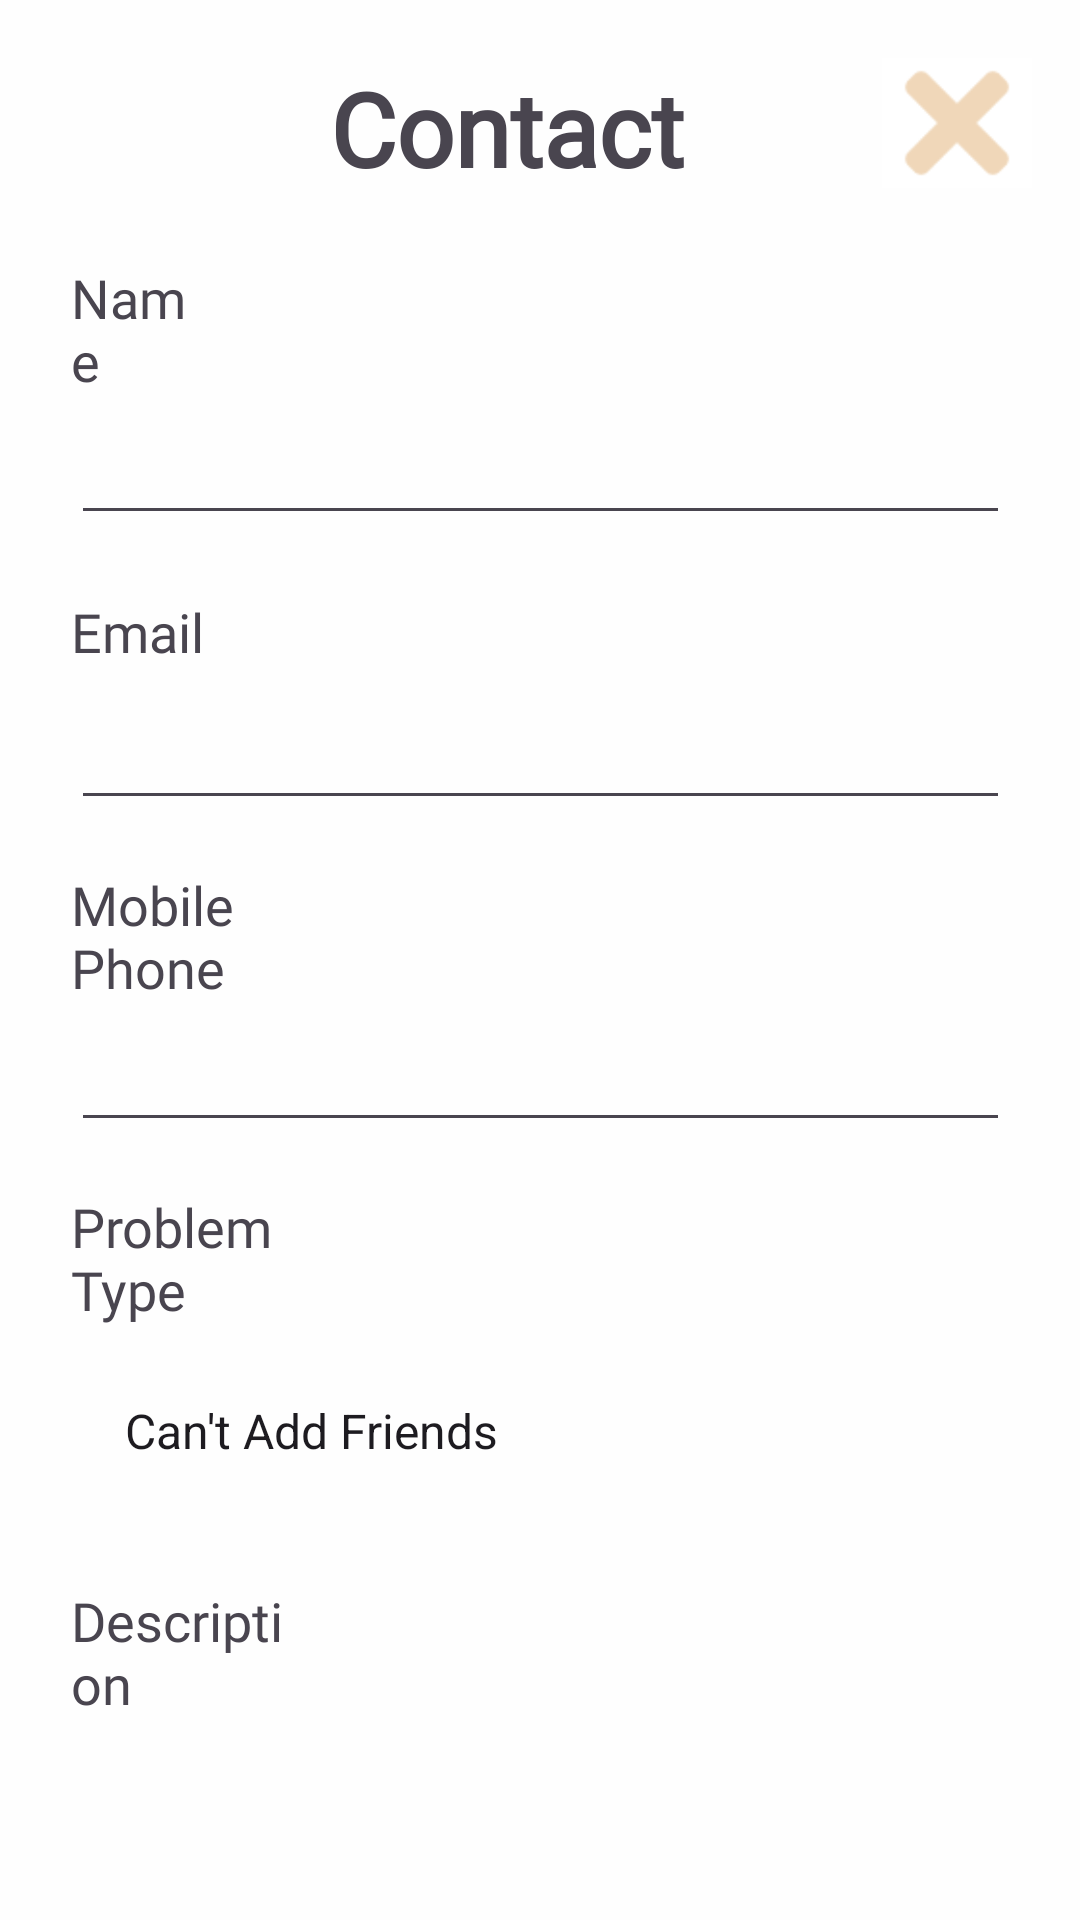

Icon bounding boxes for this 1080px x 1920px phone screenshot, format bbox(x1, y1, x2, y2):
cross: bbox(905, 71, 1009, 175)
